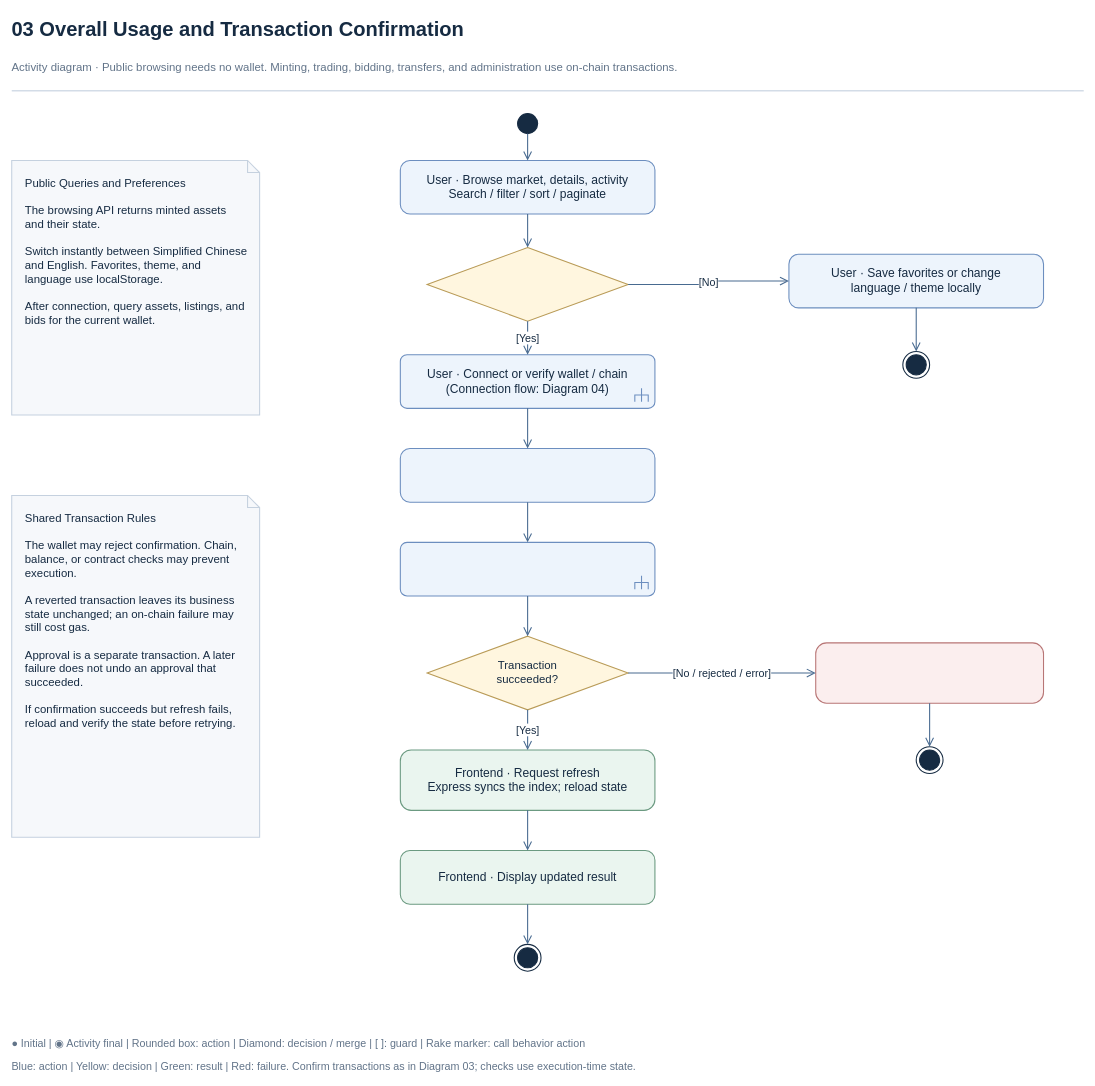
Image size: 1095x1086. Some labels were removed from this diagram. The centre of each missing label's shape, as x and y in pixels:
Frontend · Explain rejection / failure User corrects or refreshes, then retries: the point at 929,672
On-chain action needed?: the point at 527,284
User · Choose an action; check inputs (Business rules: Diagrams 05–12): the point at 527,475
Wallet · Confirm and submit transaction Wait for its receipt: the point at 527,568
